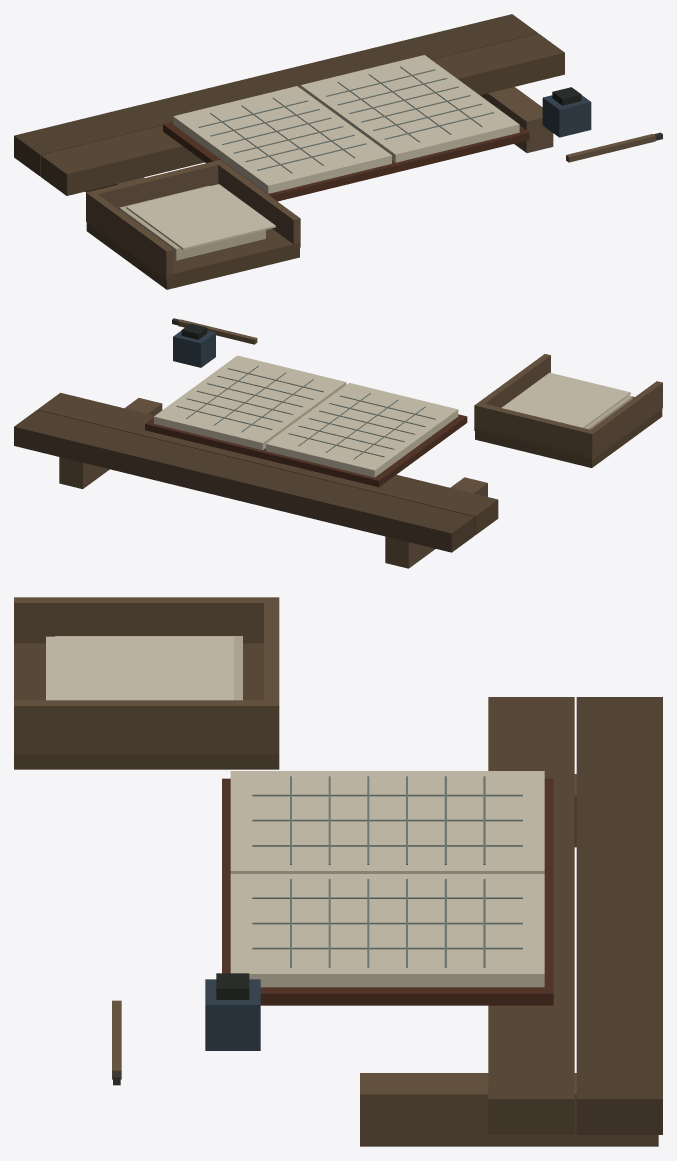
The model's file is WorkingLedger.glb.
3 renders of one model, top to bottom at view 1: azimuth 30°, elevation 25°; view 2: azimuth 150°, elevation 25°; view 3: azimuth 270°, elevation 25°, orthographic. The views are drawn at different scales.
Visible parts, largest first — view 1: WorkingLedger; view 2: WorkingLedger; view 3: WorkingLedger.
Part boxes in pixels (left/top/right/bottom): WorkingLedger: left=14, top=14, right=662, bottom=289; WorkingLedger: left=14, top=318, right=662, bottom=568; WorkingLedger: left=14, top=597, right=662, bottom=1146.
Bounding box in the file's own units: 0.936 × 0.152 × 0.587.
